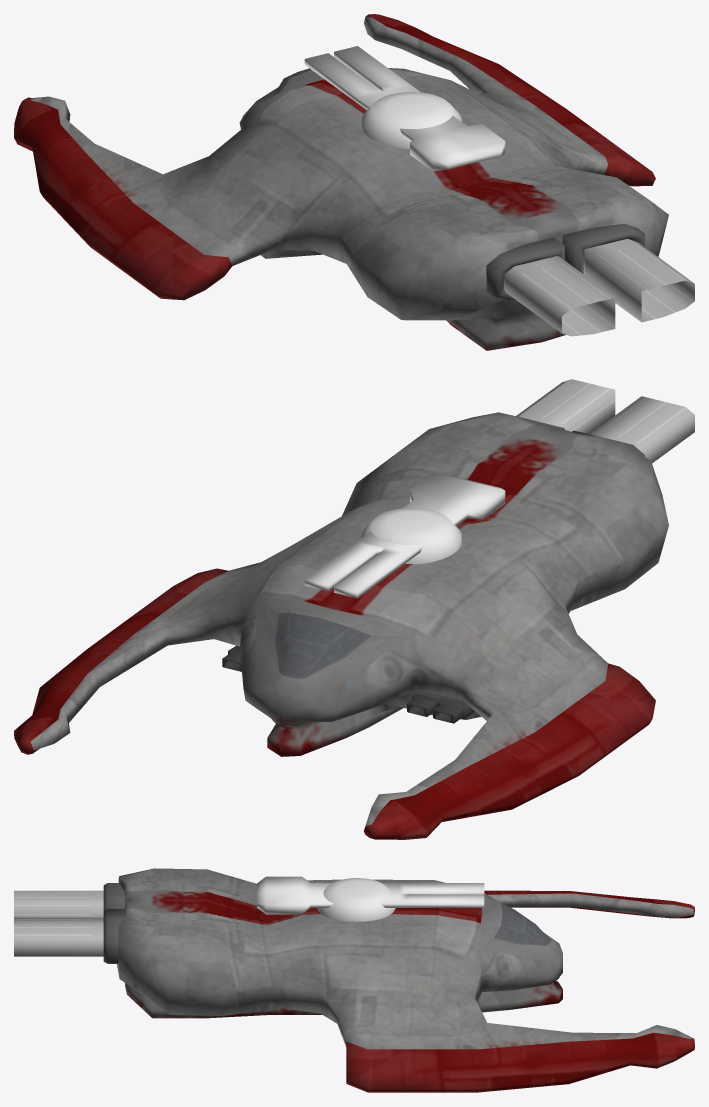
Rendered from corvette.fbx.
3 renders of one model, top to bottom at view 1: azimuth 30°, elevation 25°; view 2: azimuth 150°, elevation 25°; view 3: azimuth 270°, elevation 25°, orthographic. The views are drawn at different scales.
Visible parts, largest first — view 1: Corvette, Thrust, Turret; view 2: Corvette, Turret, Thrust, Weapon; view 3: Corvette, Turret, Thrust.
Boxes of the visible parts, <box> form: Corvette: <box>14,14,668,350</box>; Thrust: <box>504,239,694,336</box>; Turret: <box>304,46,505,171</box>; Corvette: <box>14,412,668,839</box>; Turret: <box>304,473,505,598</box>; Thrust: <box>516,379,694,463</box>; Weapon: <box>222,645,474,723</box>; Corvette: <box>103,868,694,1092</box>; Turret: <box>257,876,484,921</box>; Thrust: <box>14,890,103,956</box>.
Size of the model in its own units: 50.54 by 13.82 by 76.06.
